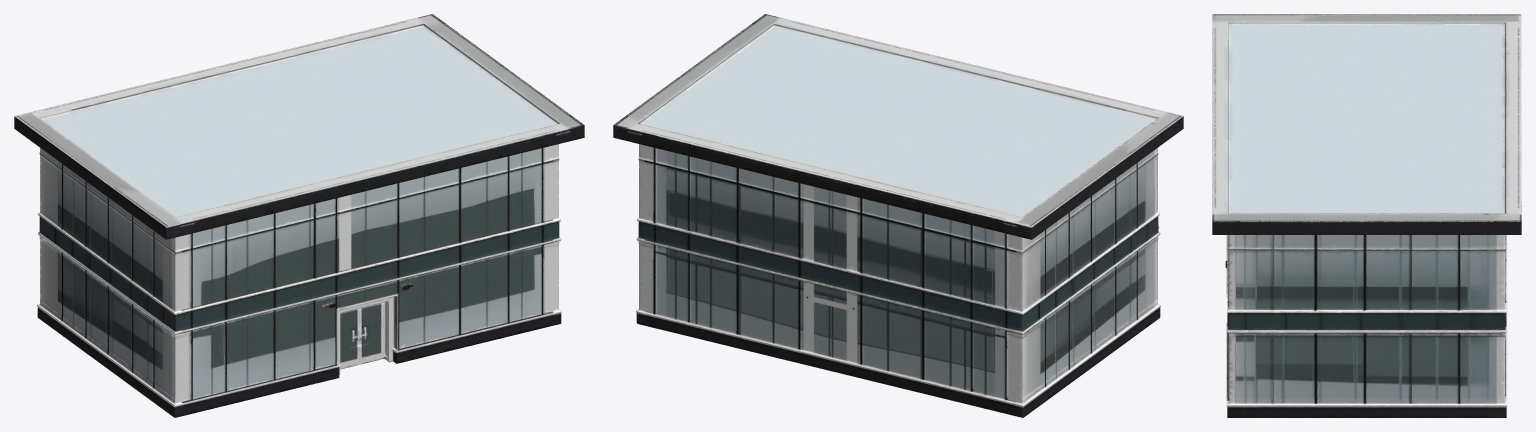
File: ann-museum.glb
The picture shows the model from 3 angles, left to right: view 1: azimuth 30°, elevation 25°; view 2: azimuth 150°, elevation 25°; view 3: azimuth 270°, elevation 25°; orthographic projection.
Bounding box in the file's own units: 1.9 × 0.869 × 1.19.
1 material, 1 textured.
